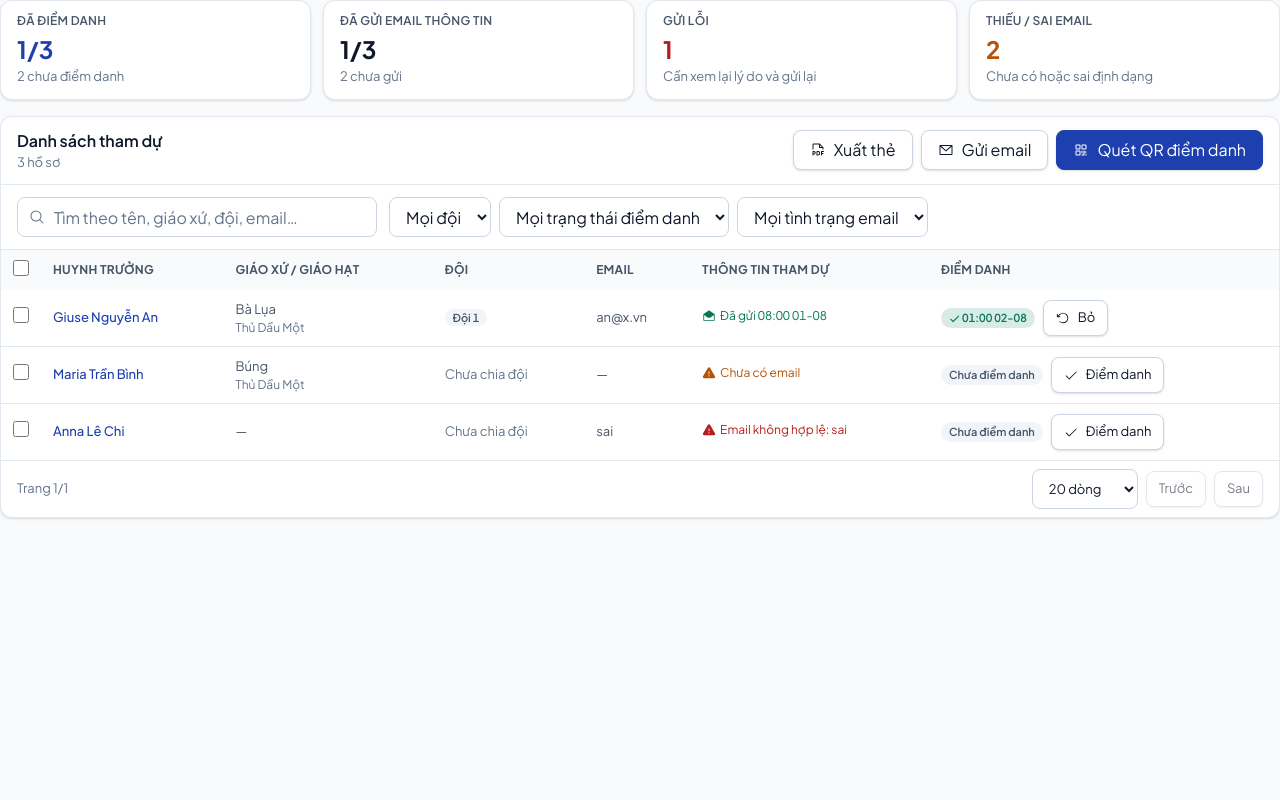
Scenario: CourseParticipantsHub › opens the email and export dialogs from the toolbar
Expected: the button "Giuse Nguyễn An" is shown, [53, 308, 158, 328]
Step 1. Click the button "Gửi email" → (984, 150), box [920, 130, 1048, 170]
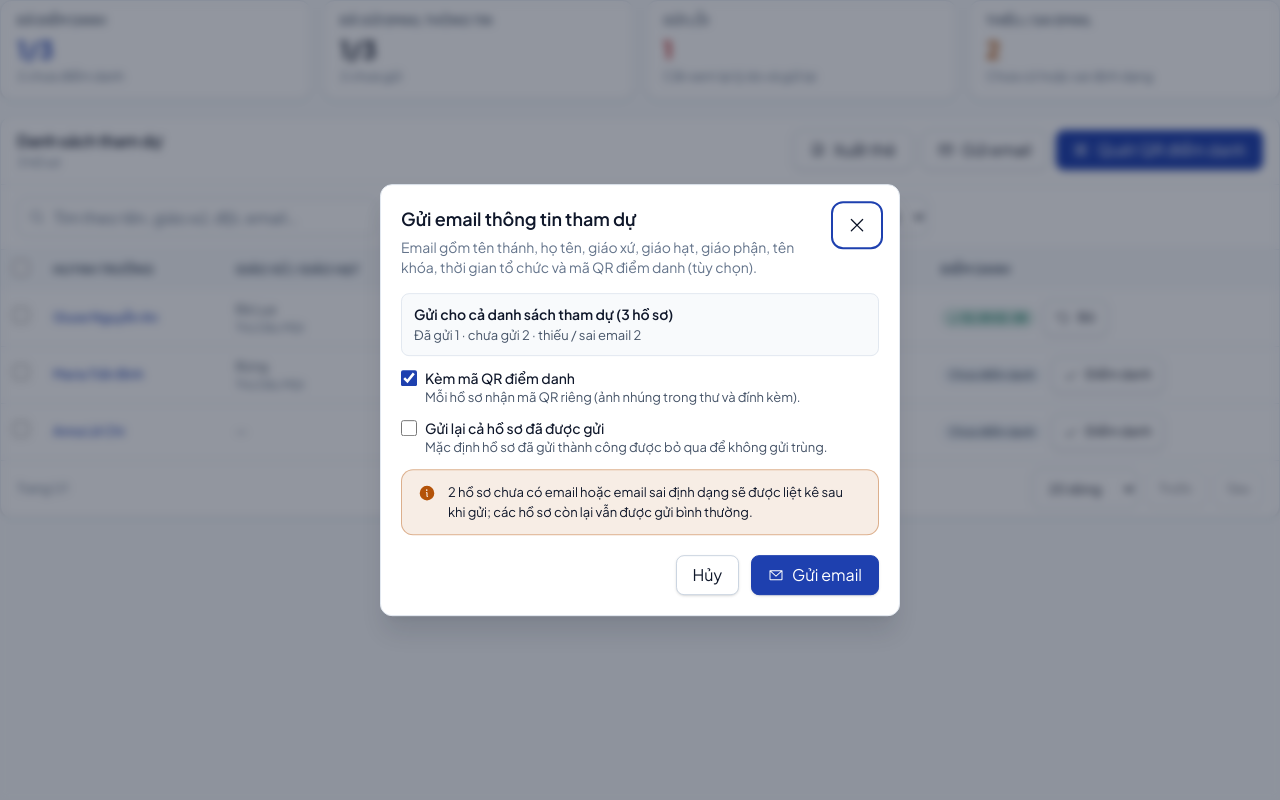
Result: the heading "Gửi email thông tin tham dự" is shown at [401, 207, 637, 230]
Step 2. Click the button "Hủy" → (707, 575), box [676, 555, 739, 595]
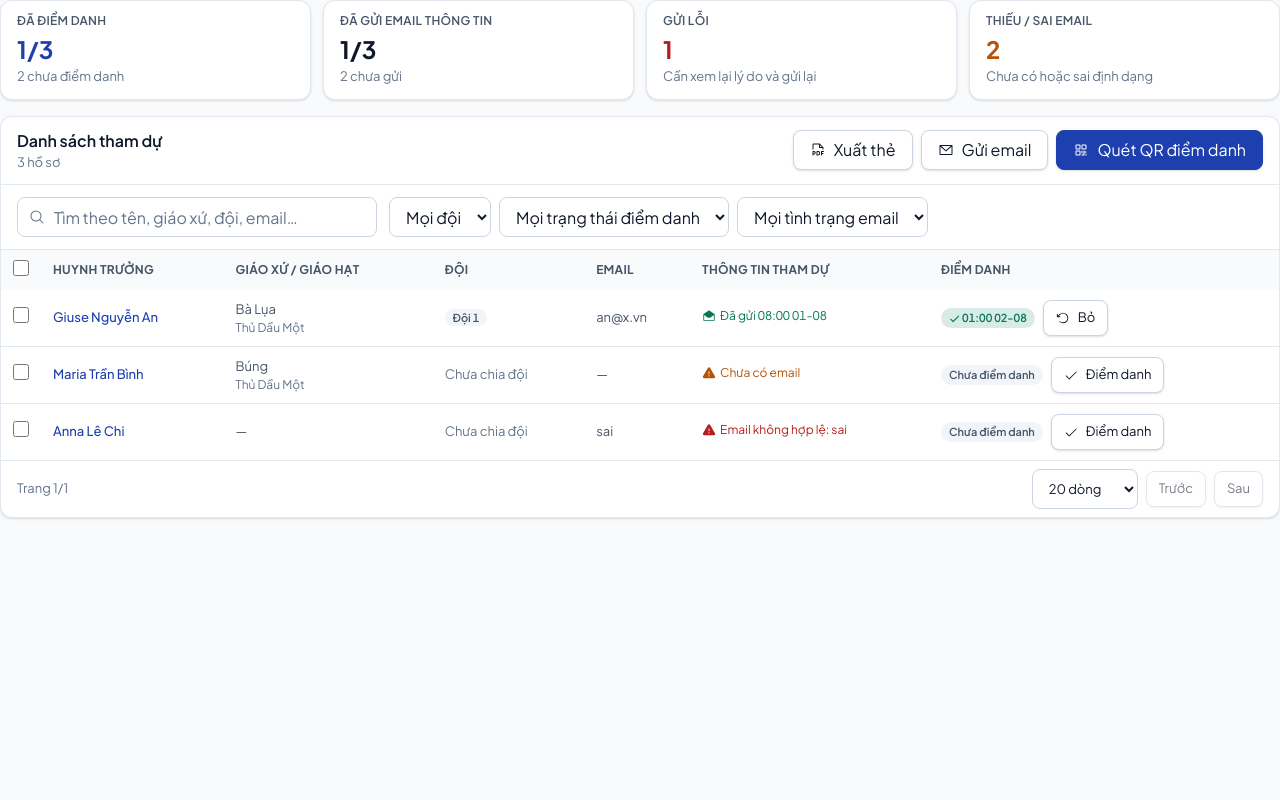
Result: the heading "Gửi email thông tin tham dự" is gone
Step 3. Click the button "Xuất thẻ" → (853, 150), box [793, 130, 913, 170]
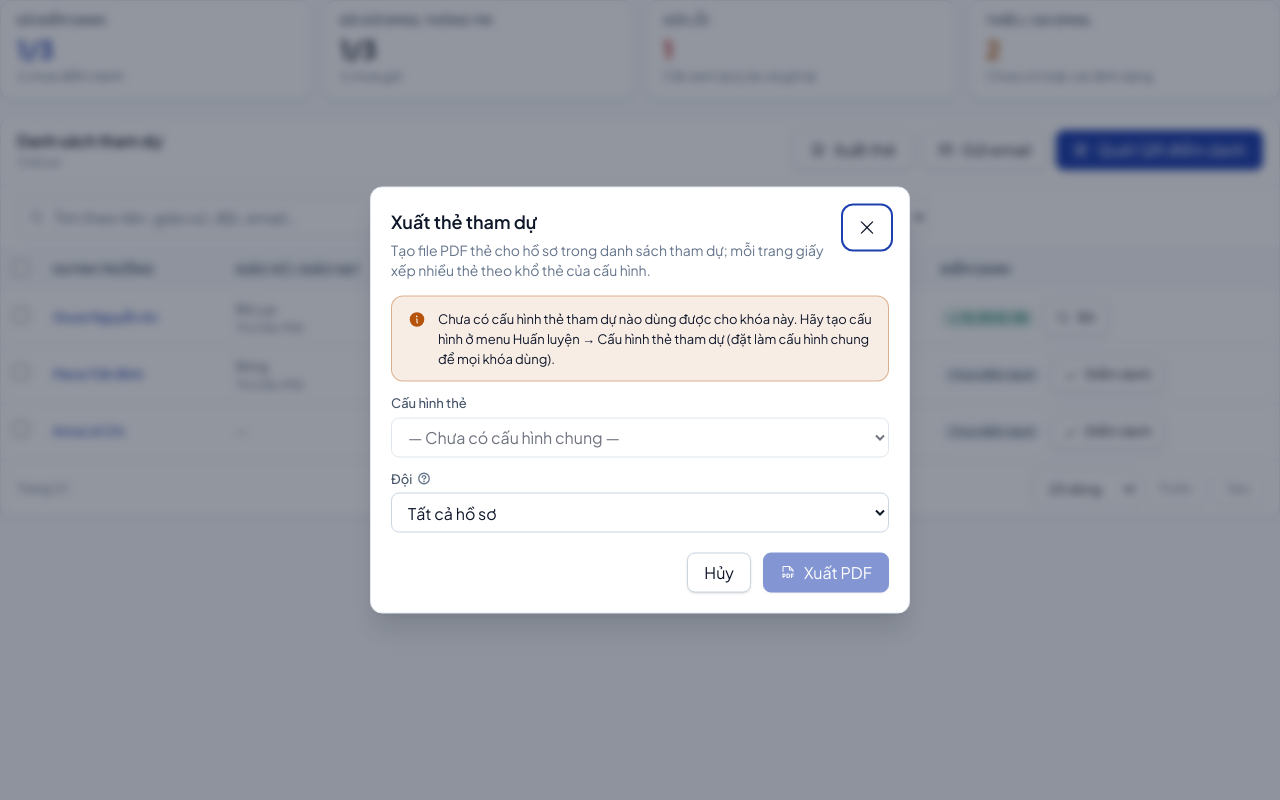
Result: the heading "Xuất thẻ tham dự" is shown at [391, 210, 537, 232]
